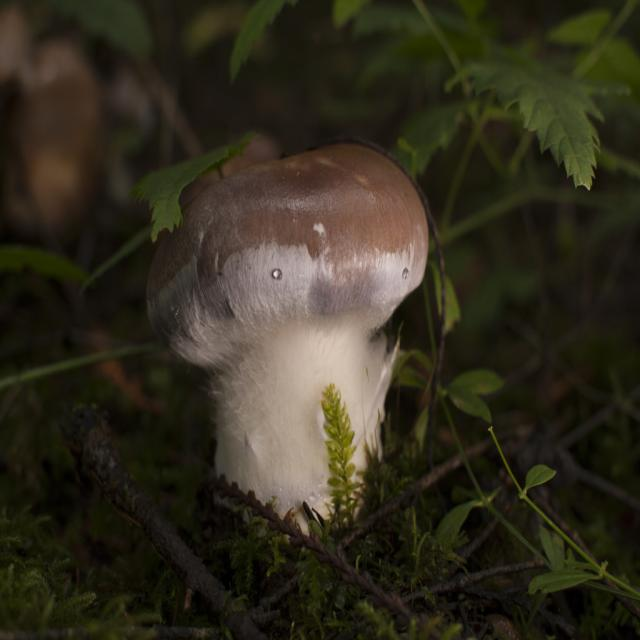Mushroom: (145, 139, 432, 537)
